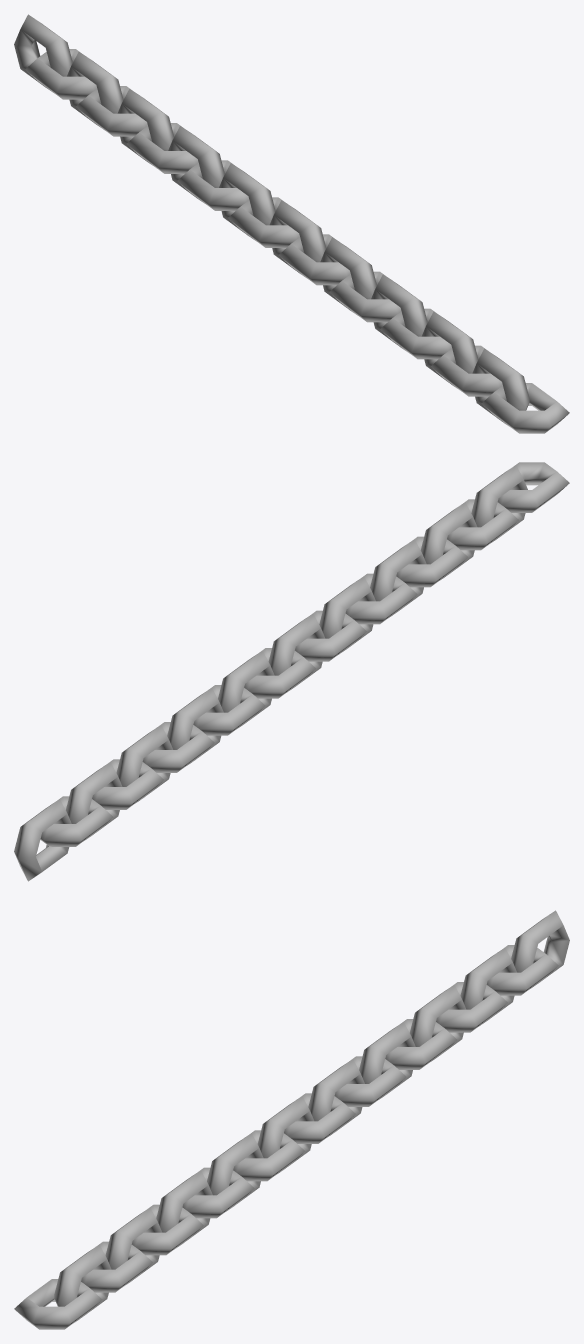
Rendered from chain_001.fbx.
3 renders of one model, top to bottom at view 1: azimuth 30°, elevation 25°; view 2: azimuth 150°, elevation 25°; view 3: azimuth 330°, elevation 25°, orthographic.
Visible parts, largest first — view 1: chain_001; view 2: chain_001; view 3: chain_001.
Part boxes in pixels (x1=…): chain_001: x1=14, y1=14, x2=569, y2=433; chain_001: x1=14, y1=462, x2=569, y2=881; chain_001: x1=14, y1=910, x2=569, y2=1329.
Bounding box in the file's own units: 130 × 2100 × 130.
